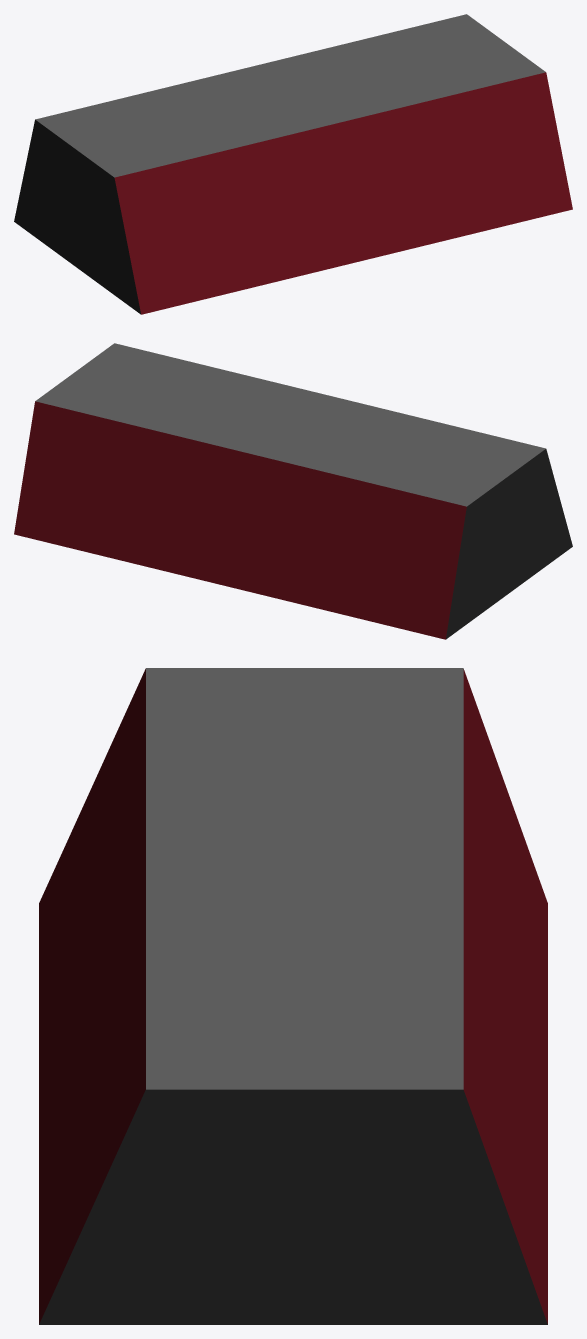
The model's file is wall_s.dae.
The picture shows the model from 3 angles, top to bottom: view 1: azimuth 30°, elevation 25°; view 2: azimuth 150°, elevation 25°; view 3: azimuth 270°, elevation 25°; orthographic projection. The views are drawn at different scales.
Parts seen in each view (by area): view 1: SketchUp (×3); view 2: SketchUp (×3); view 3: SketchUp (×4).
Boxes of the visible parts, x1,y1,x2,y2 form: SketchUp (×3): [14, 14, 572, 314]; SketchUp (×3): [14, 343, 572, 639]; SketchUp (×4): [39, 668, 547, 1324].
Size of the model in its own units: 75.59 by 38.58 by 19.69.
